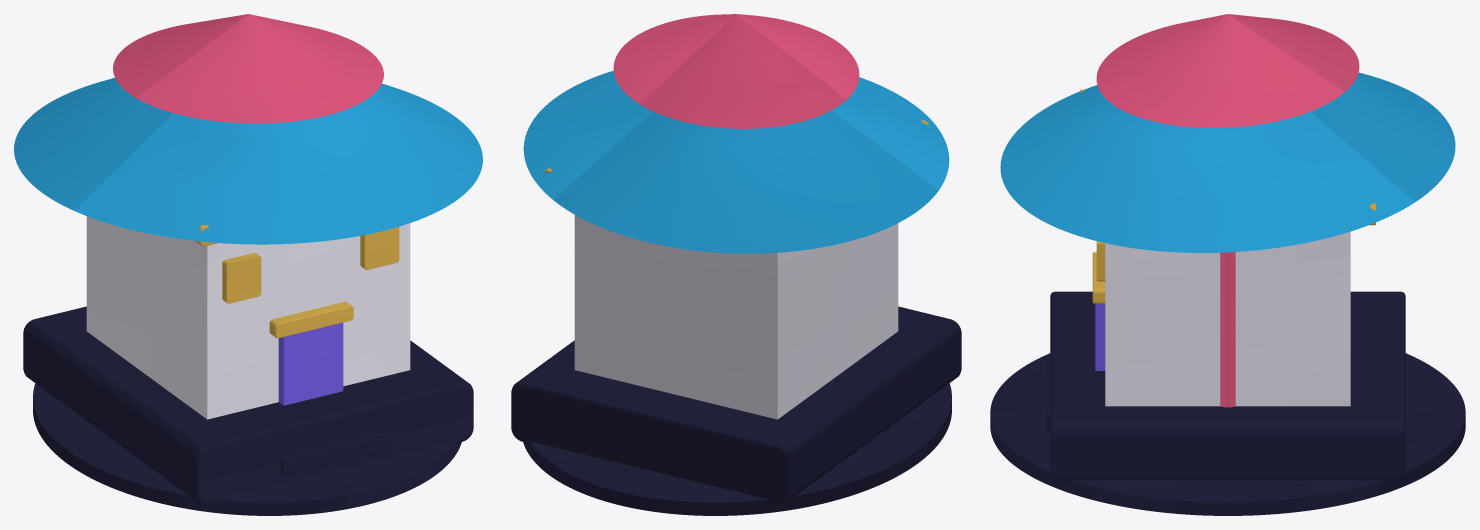
File: 0798_中国建筑图鉴_下沉式窑洞.glb
3 views of the same model, side by side, from view 1: azimuth 30°, elevation 25°; view 2: azimuth 150°, elevation 25°; view 3: azimuth 270°, elevation 25° (orthographic).
Parts seen in each view (by area): view 1: card_0798; view 2: card_0798; view 3: card_0798.
Boxes of the visible parts, x1=… form: card_0798: x1=14, y1=14, x2=482, y2=515; card_0798: x1=511, y1=14, x2=961, y2=515; card_0798: x1=990, y1=14, x2=1465, y2=515.
Size of the model in its own units: 1 by 1 by 1.04.
